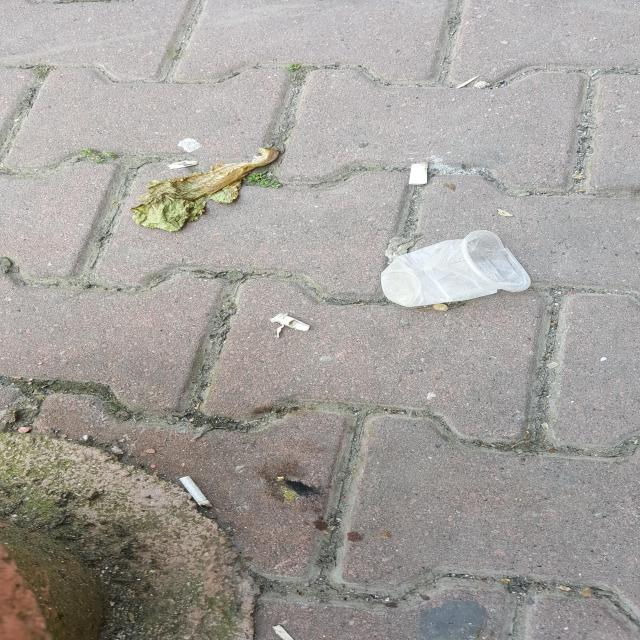litter: (407, 62, 549, 146)
